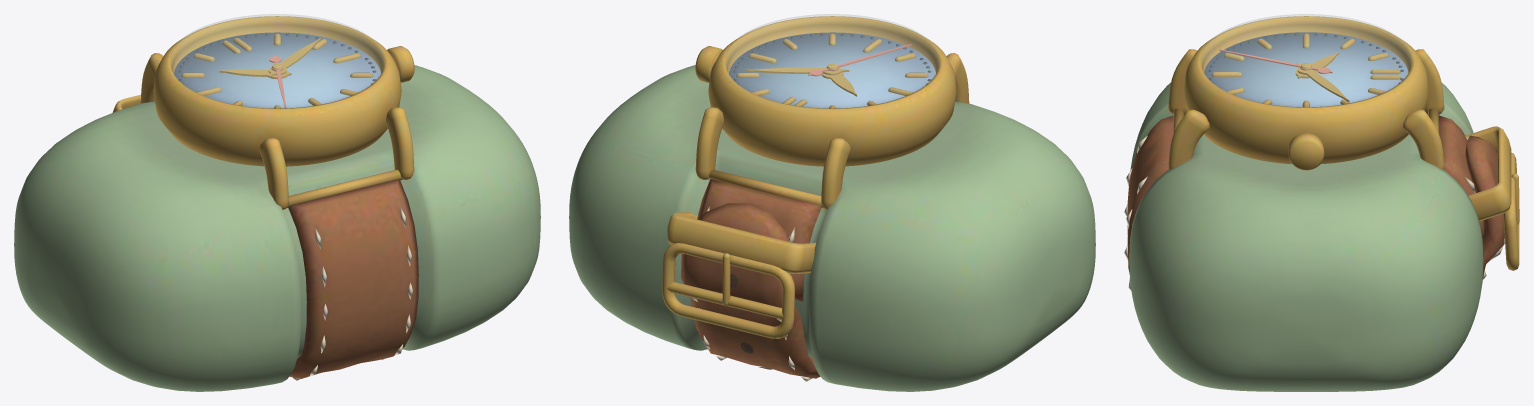
File: wristwatch.glb
3 views of the same model, side by side, from view 1: azimuth 30°, elevation 25°; view 2: azimuth 150°, elevation 25°; view 3: azimuth 270°, elevation 25° (orthographic).
Parts seen in each view (by area): view 1: wristwatch_body, wristwatch_crystal; view 2: wristwatch_body, wristwatch_crystal, wristwatch_hand_minute; view 3: wristwatch_body, wristwatch_crystal, wristwatch_hand_minute, wristwatch_hand_second.
Boxes of the visible parts, x1,y1,x2,y2 form: wristwatch_body: [14, 16, 540, 391]; wristwatch_crystal: [170, 14, 384, 108]; wristwatch_body: [569, 16, 1095, 391]; wristwatch_crystal: [725, 14, 939, 108]; wristwatch_hand_minute: [745, 67, 849, 75]; wristwatch_body: [1124, 16, 1519, 391]; wristwatch_crystal: [1201, 14, 1411, 106]; wristwatch_hand_minute: [1297, 63, 1349, 101]; wristwatch_hand_second: [1219, 50, 1332, 74].
Bounding box in the file's own units: 0.08 × 0.0474 × 0.062.
Materials: 6 (1 with a texture image).
